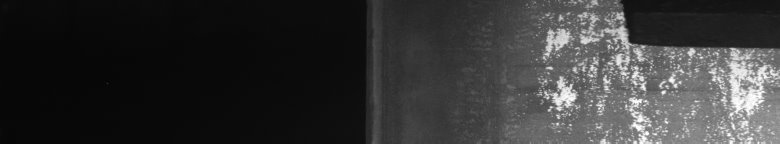kb: (532, 4, 776, 136)
